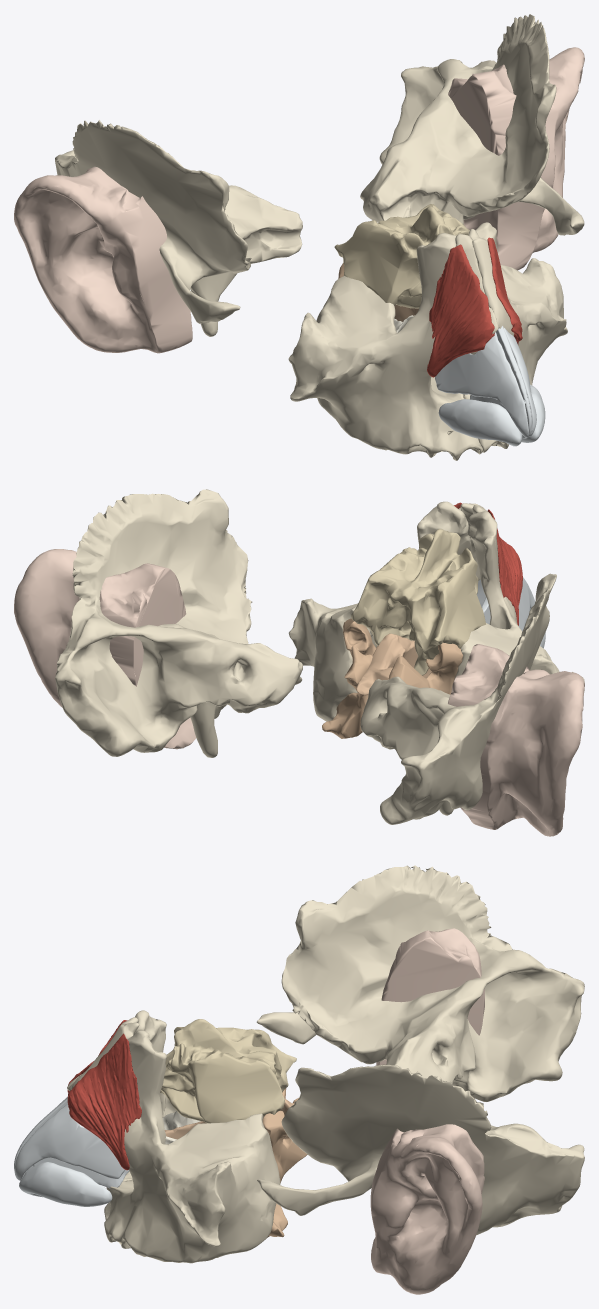
File: bodyparts3d-nose-ear.glb
The picture shows the model from 3 angles, top to bottom: view 1: azimuth 30°, elevation 25°; view 2: azimuth 150°, elevation 25°; view 3: azimuth 270°, elevation 25°; orthographic projection. The views are drawn at different scales.
Visible parts, largest first — view 1: ear, temporal_l, maxilla_r, temporal_r, nasal_cartilages, ethmoid, nasalis_r, maxilla_l, nasal_bone_l, nasalis_l, nasal_bone_r; view 2: temporal_l, ear, temporal_r, ethmoid, maxilla_l, maxilla_r, palatine_l, palatine_r, vomer, nasalis_r, nasal_cartilages; view 3: temporal_r, temporal_l, maxilla_l, ear, ethmoid, nasal_cartilages, nasalis_l, palatine_l, maxilla_r, nasal_bone_l.
Part boxes in pixels (x1,y1,x2,y2): ear: [14, 47, 584, 353]; temporal_l: [360, 14, 584, 235]; maxilla_r: [288, 233, 482, 460]; temporal_r: [55, 120, 302, 336]; nasal_cartilages: [435, 326, 545, 446]; ethmoid: [334, 204, 469, 308]; nasalis_r: [427, 244, 494, 377]; maxilla_l: [463, 222, 567, 452]; nasal_bone_l: [468, 229, 513, 336]; nasalis_l: [487, 237, 522, 344]; nasal_bone_r: [455, 234, 498, 354]; temporal_l: [55, 489, 302, 757]; ear: [14, 549, 584, 836]; temporal_r: [360, 573, 584, 824]; ethmoid: [351, 529, 485, 675]; maxilla_l: [288, 501, 471, 721]; maxilla_r: [454, 511, 559, 679]; palatine_l: [322, 618, 377, 738]; palatine_r: [388, 642, 463, 694]; vomer: [356, 633, 431, 695]; nasalis_r: [487, 509, 522, 625]; nasal_cartilages: [477, 577, 545, 648]; temporal_r: [256, 865, 584, 1101]; temporal_l: [257, 1064, 584, 1235]; maxilla_l: [104, 1030, 280, 1263]; ear: [370, 928, 484, 1294]; ethmoid: [160, 1019, 296, 1123]; nasal_cartilages: [14, 1096, 129, 1206]; nasalis_l: [67, 1033, 141, 1170]; palatine_l: [262, 1111, 307, 1237]; maxilla_r: [104, 1010, 176, 1220]; nasal_bone_l: [71, 1022, 139, 1089].
Bounding box in the file's own units: 0.1807 × 0.083 × 0.1623.
